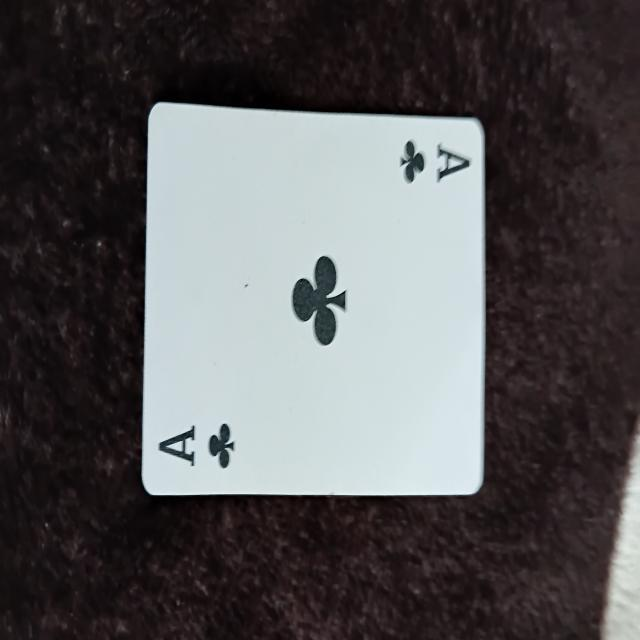AC: (144, 106, 483, 497)
